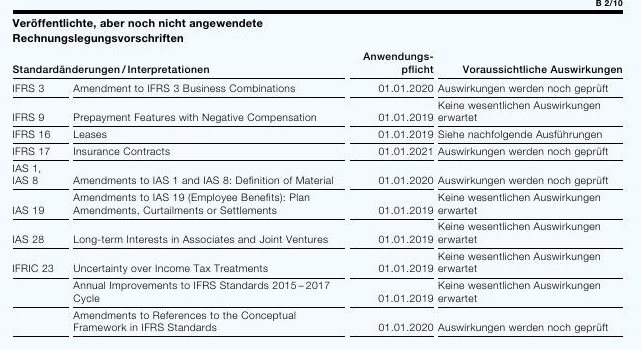table: (0, 0, 641, 349)
